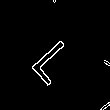L_NE: (28, 31, 86, 87)
